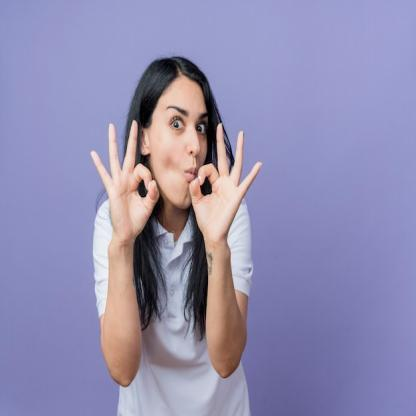ok: (188, 120, 266, 250), (90, 117, 162, 238)
